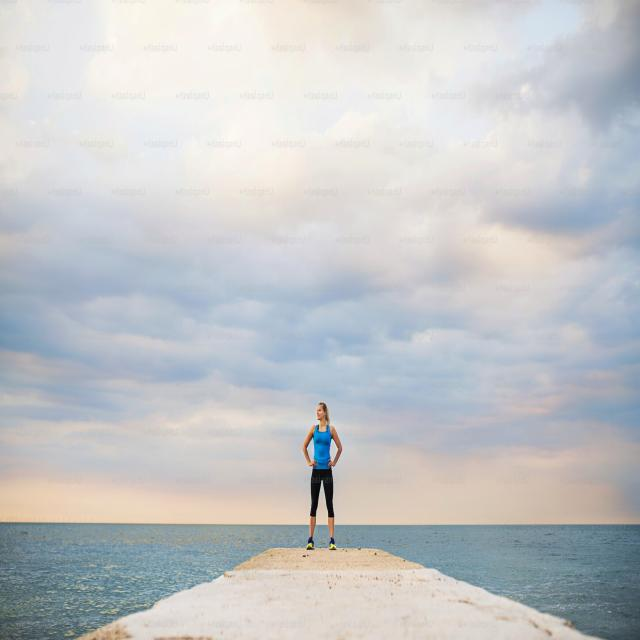adult: (302, 402, 342, 549)
